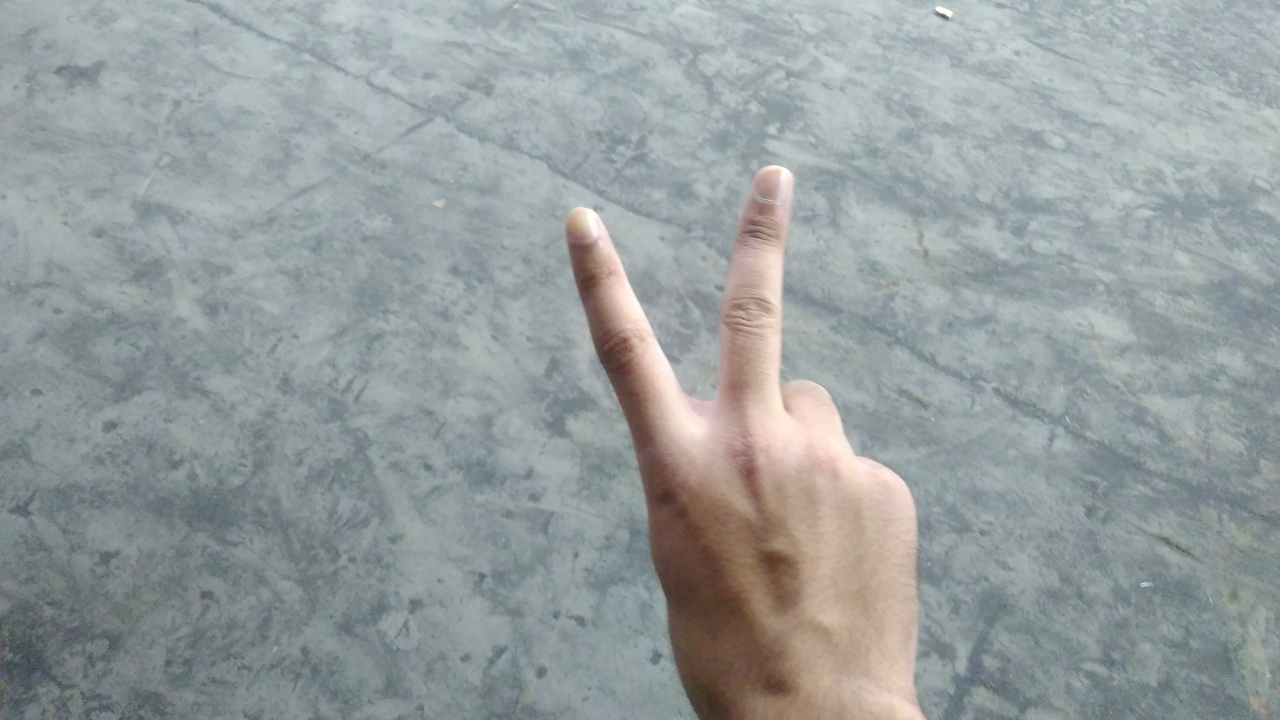fingertip: (742, 156, 806, 210), (556, 196, 614, 254)
